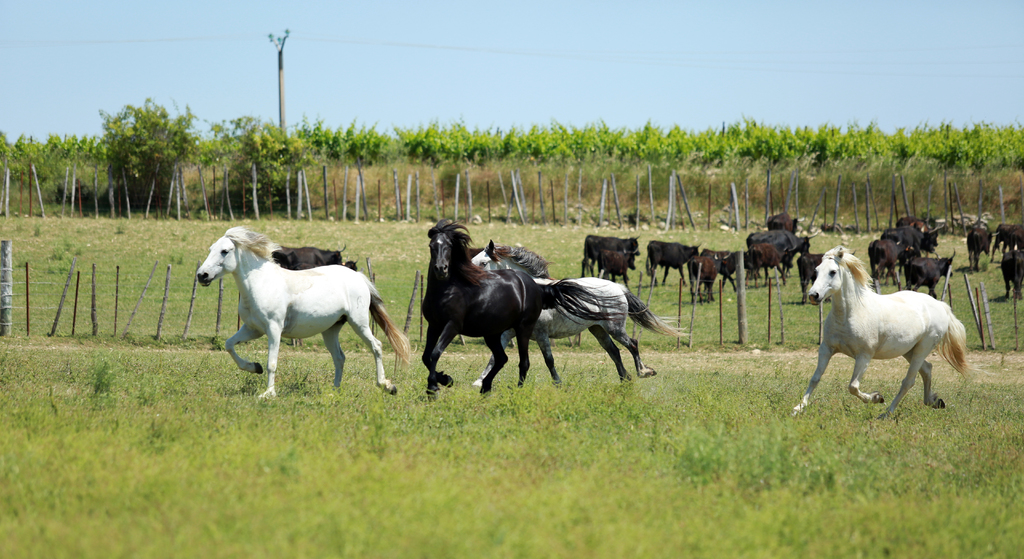horse: (193, 227, 410, 402), (421, 220, 631, 397), (789, 243, 977, 422)
